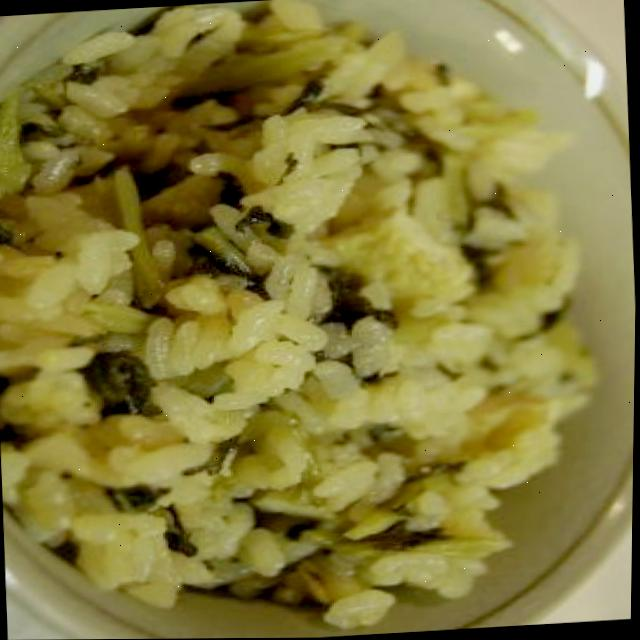米饭主食: (0, 19, 617, 619)
